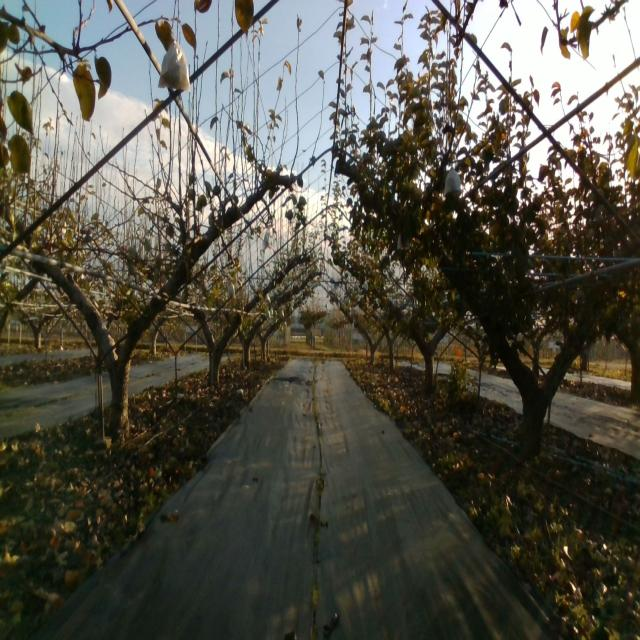pearbags: (157, 39, 190, 92), (443, 168, 461, 197)
